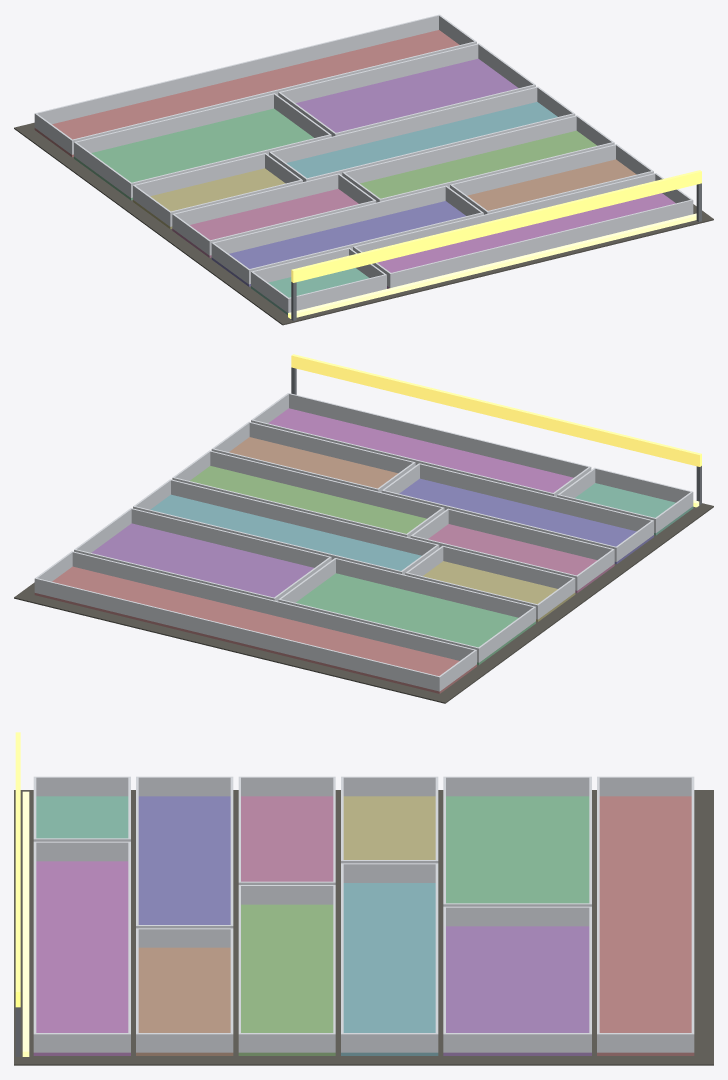
File: hall-nuclear.glb
3 renders of one model, top to bottom at view 1: azimuth 30°, elevation 25°; view 2: azimuth 150°, elevation 25°; view 3: azimuth 270°, elevation 25°, orthographic. The views are drawn at different scales.
Parts seen in each view (by area): view 1: Nuclear Plant Trades; view 2: Nuclear Plant Trades; view 3: Nuclear Plant Trades.
Boxes of the visible parts, x1,y1,x2,y2 form: Nuclear Plant Trades: (14,14,713,325); Nuclear Plant Trades: (14,354,713,703); Nuclear Plant Trades: (14,732,713,1065).
Bounding box in the file's own units: 38 × 4.3 × 41.
